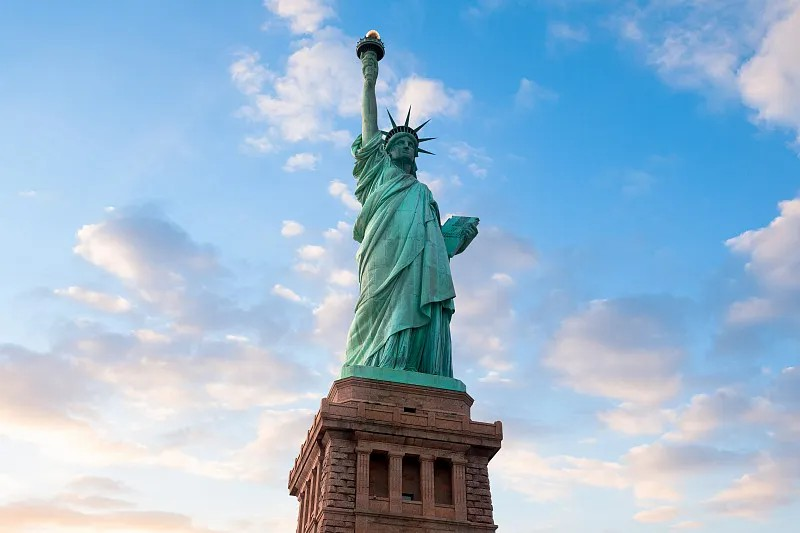SL: (286, 29, 504, 533)
